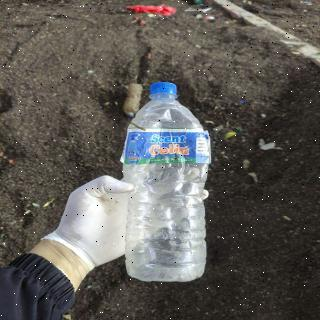Plastic-bottle: (115, 78, 214, 287)
